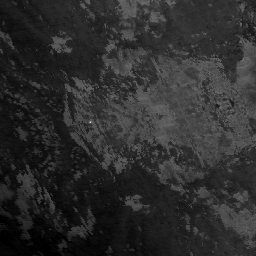Target: (88, 120, 93, 124)
